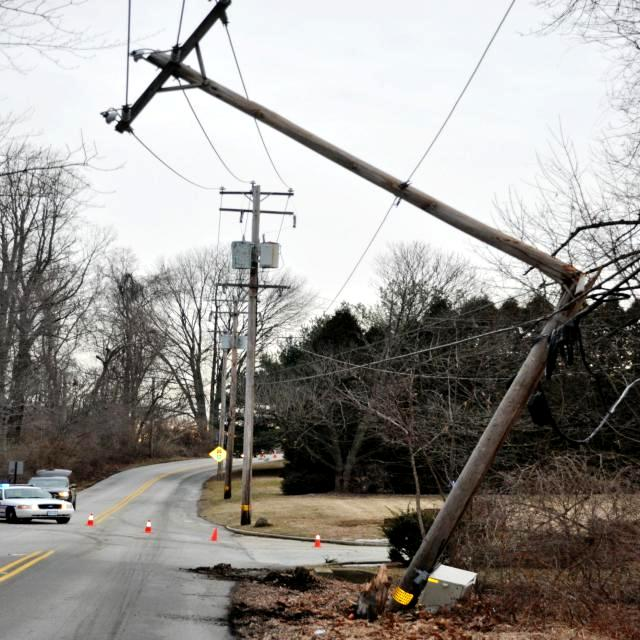Broken Pole: (95, 0, 599, 614)
